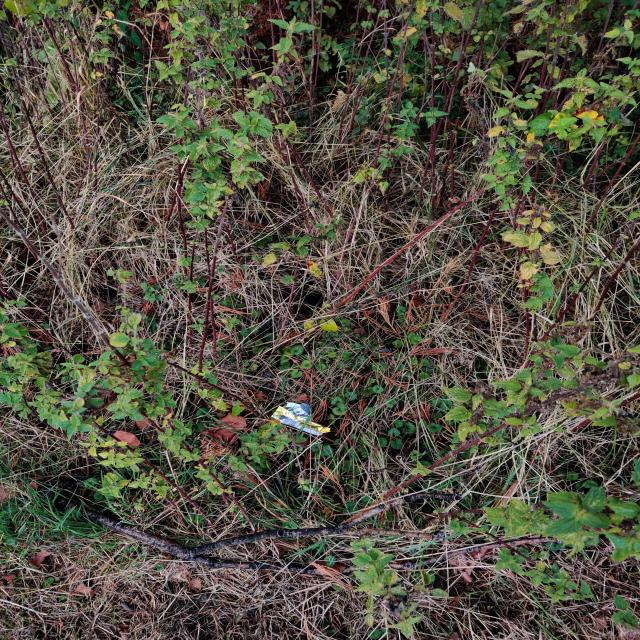litter: (265, 401, 331, 459)
